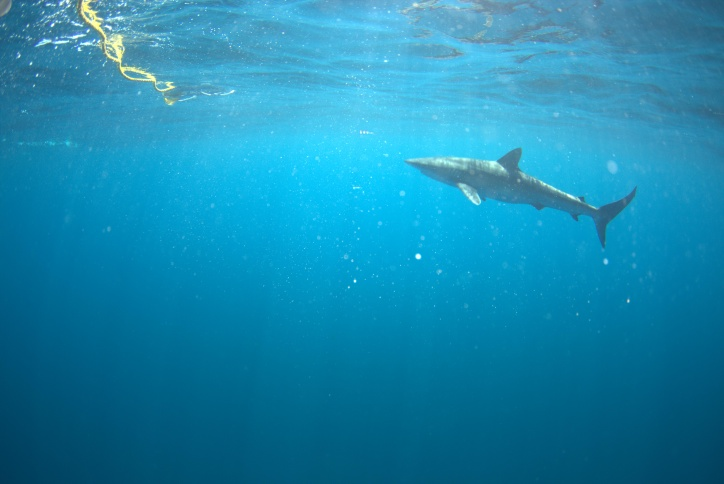Sedoso: (382, 132, 663, 265)
